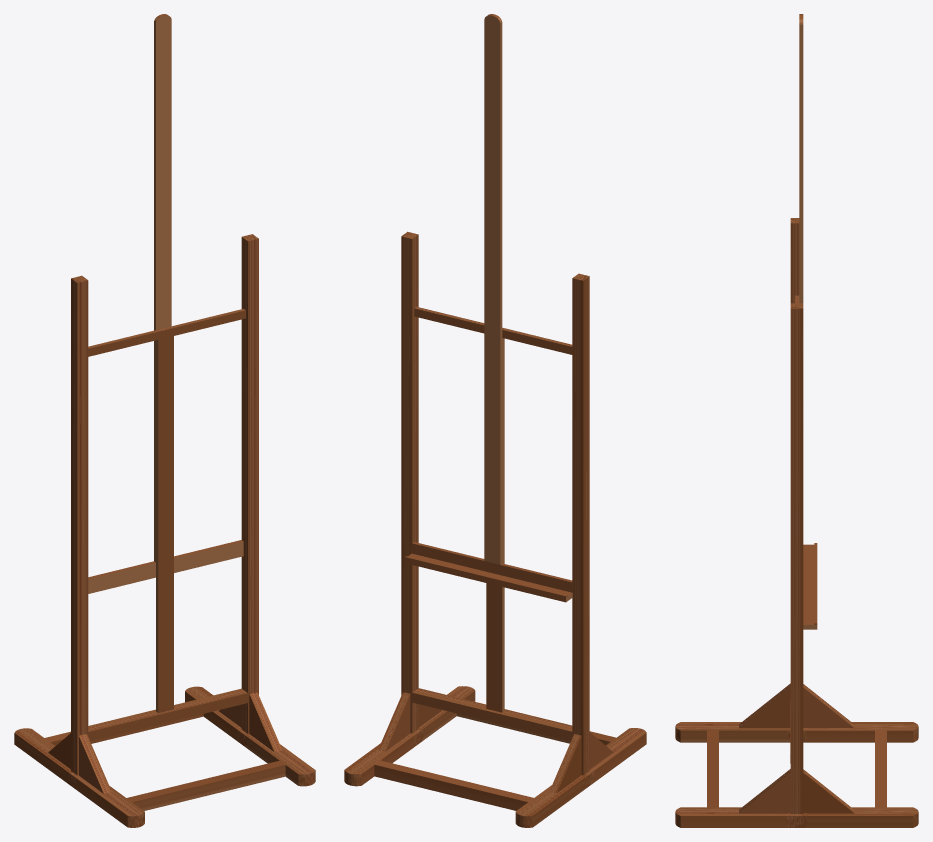
The model's file is molbert.fbx.
3 renders of one model, left to right at view 1: azimuth 30°, elevation 25°; view 2: azimuth 150°, elevation 25°; view 3: azimuth 270°, elevation 25°, orthographic. The views are drawn at different scales.
Visible parts, largest first — view 1: Cube; view 2: Cube; view 3: Cube.
Part boxes in pixels (x1,y1,x2,y2): Cube: [14, 14, 315, 827]; Cube: [344, 14, 646, 827]; Cube: [675, 14, 918, 827].
Size of the model in its own units: 2182 by 8290 by 2384.
Materials: 1 (1 with a texture image).
